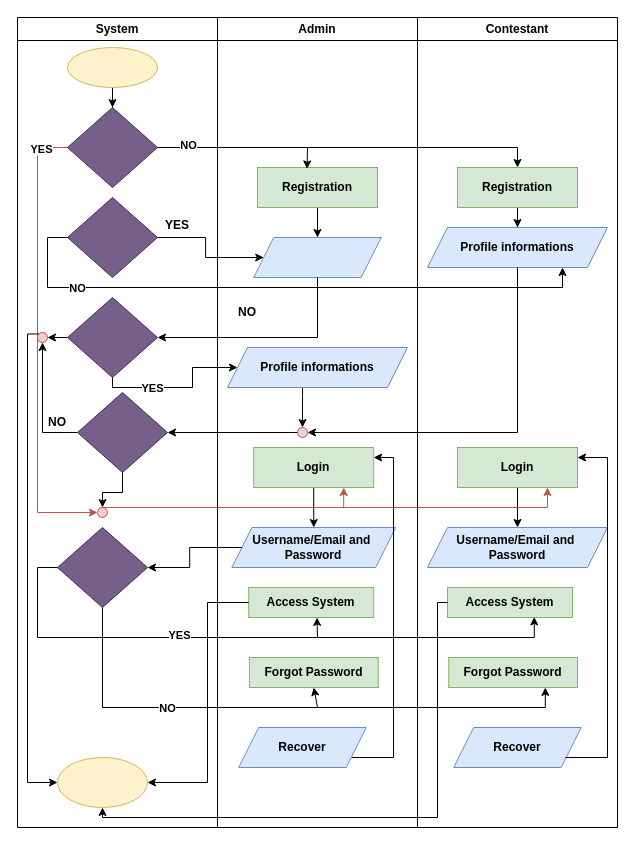
The diagram is 635 pixels wide and 845 high, and some of its shapes have lost their labels. Each missing label, with the centre of its shape:
Correct ?: the point at 112,337
End: the point at 102,782
Have an account?: the point at 112,147
Is Admin ?: the point at 112,237
Is Valid ?: the point at 122,432
Pincode: the point at 317,257
Start: the point at 112,67
Succeed ?: the point at 102,567
